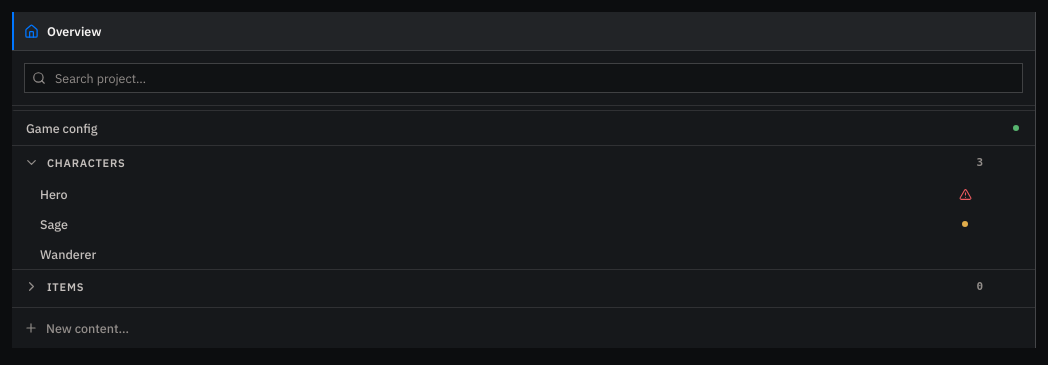
Test: LeftRail › filters case-insensitively and expands matching collapsed sections
This screenshot has width=1048, height=365.
Type "saGE" into the field with placeholder "Search project…" at (524, 78), box left=24, top=63, right=1023, bottom=93
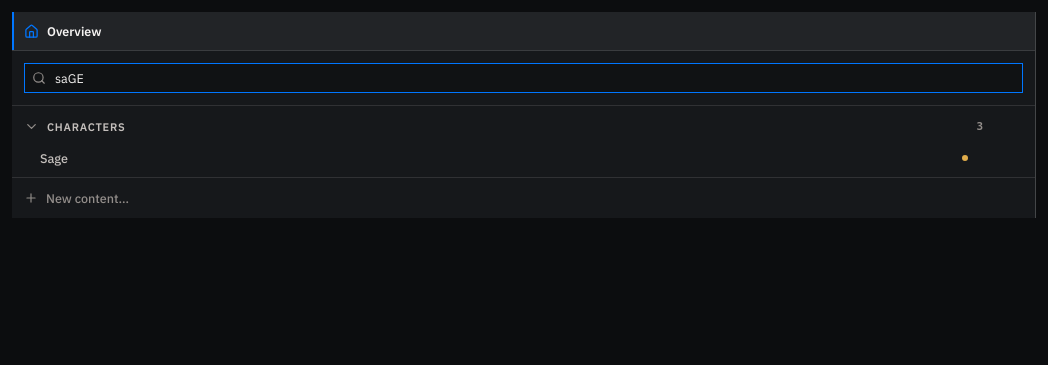
Check: the button "Sage" is shown, box left=14, top=143, right=984, bottom=173
Check: the button "Hero" is gone
Check: the button "config" is gone
Clear the field with placeholder "Search project…" at (524, 78), box left=24, top=63, right=1023, bottom=93
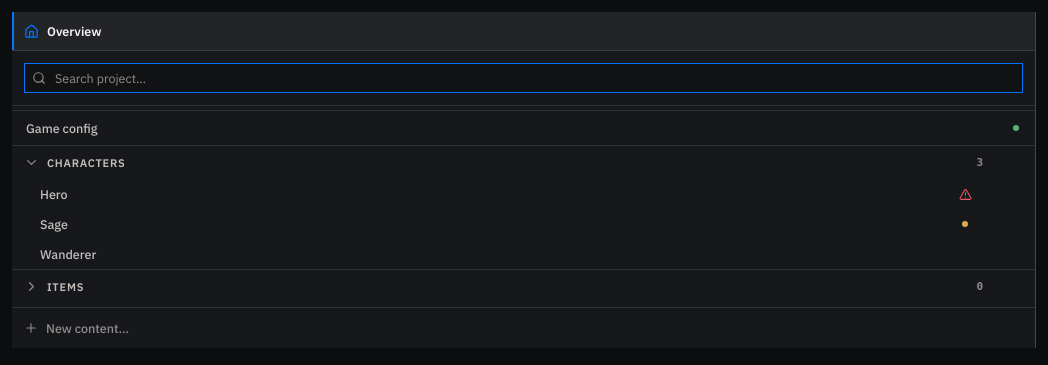
Check: the button "Hero" is shown, box left=14, top=179, right=984, bottom=209
